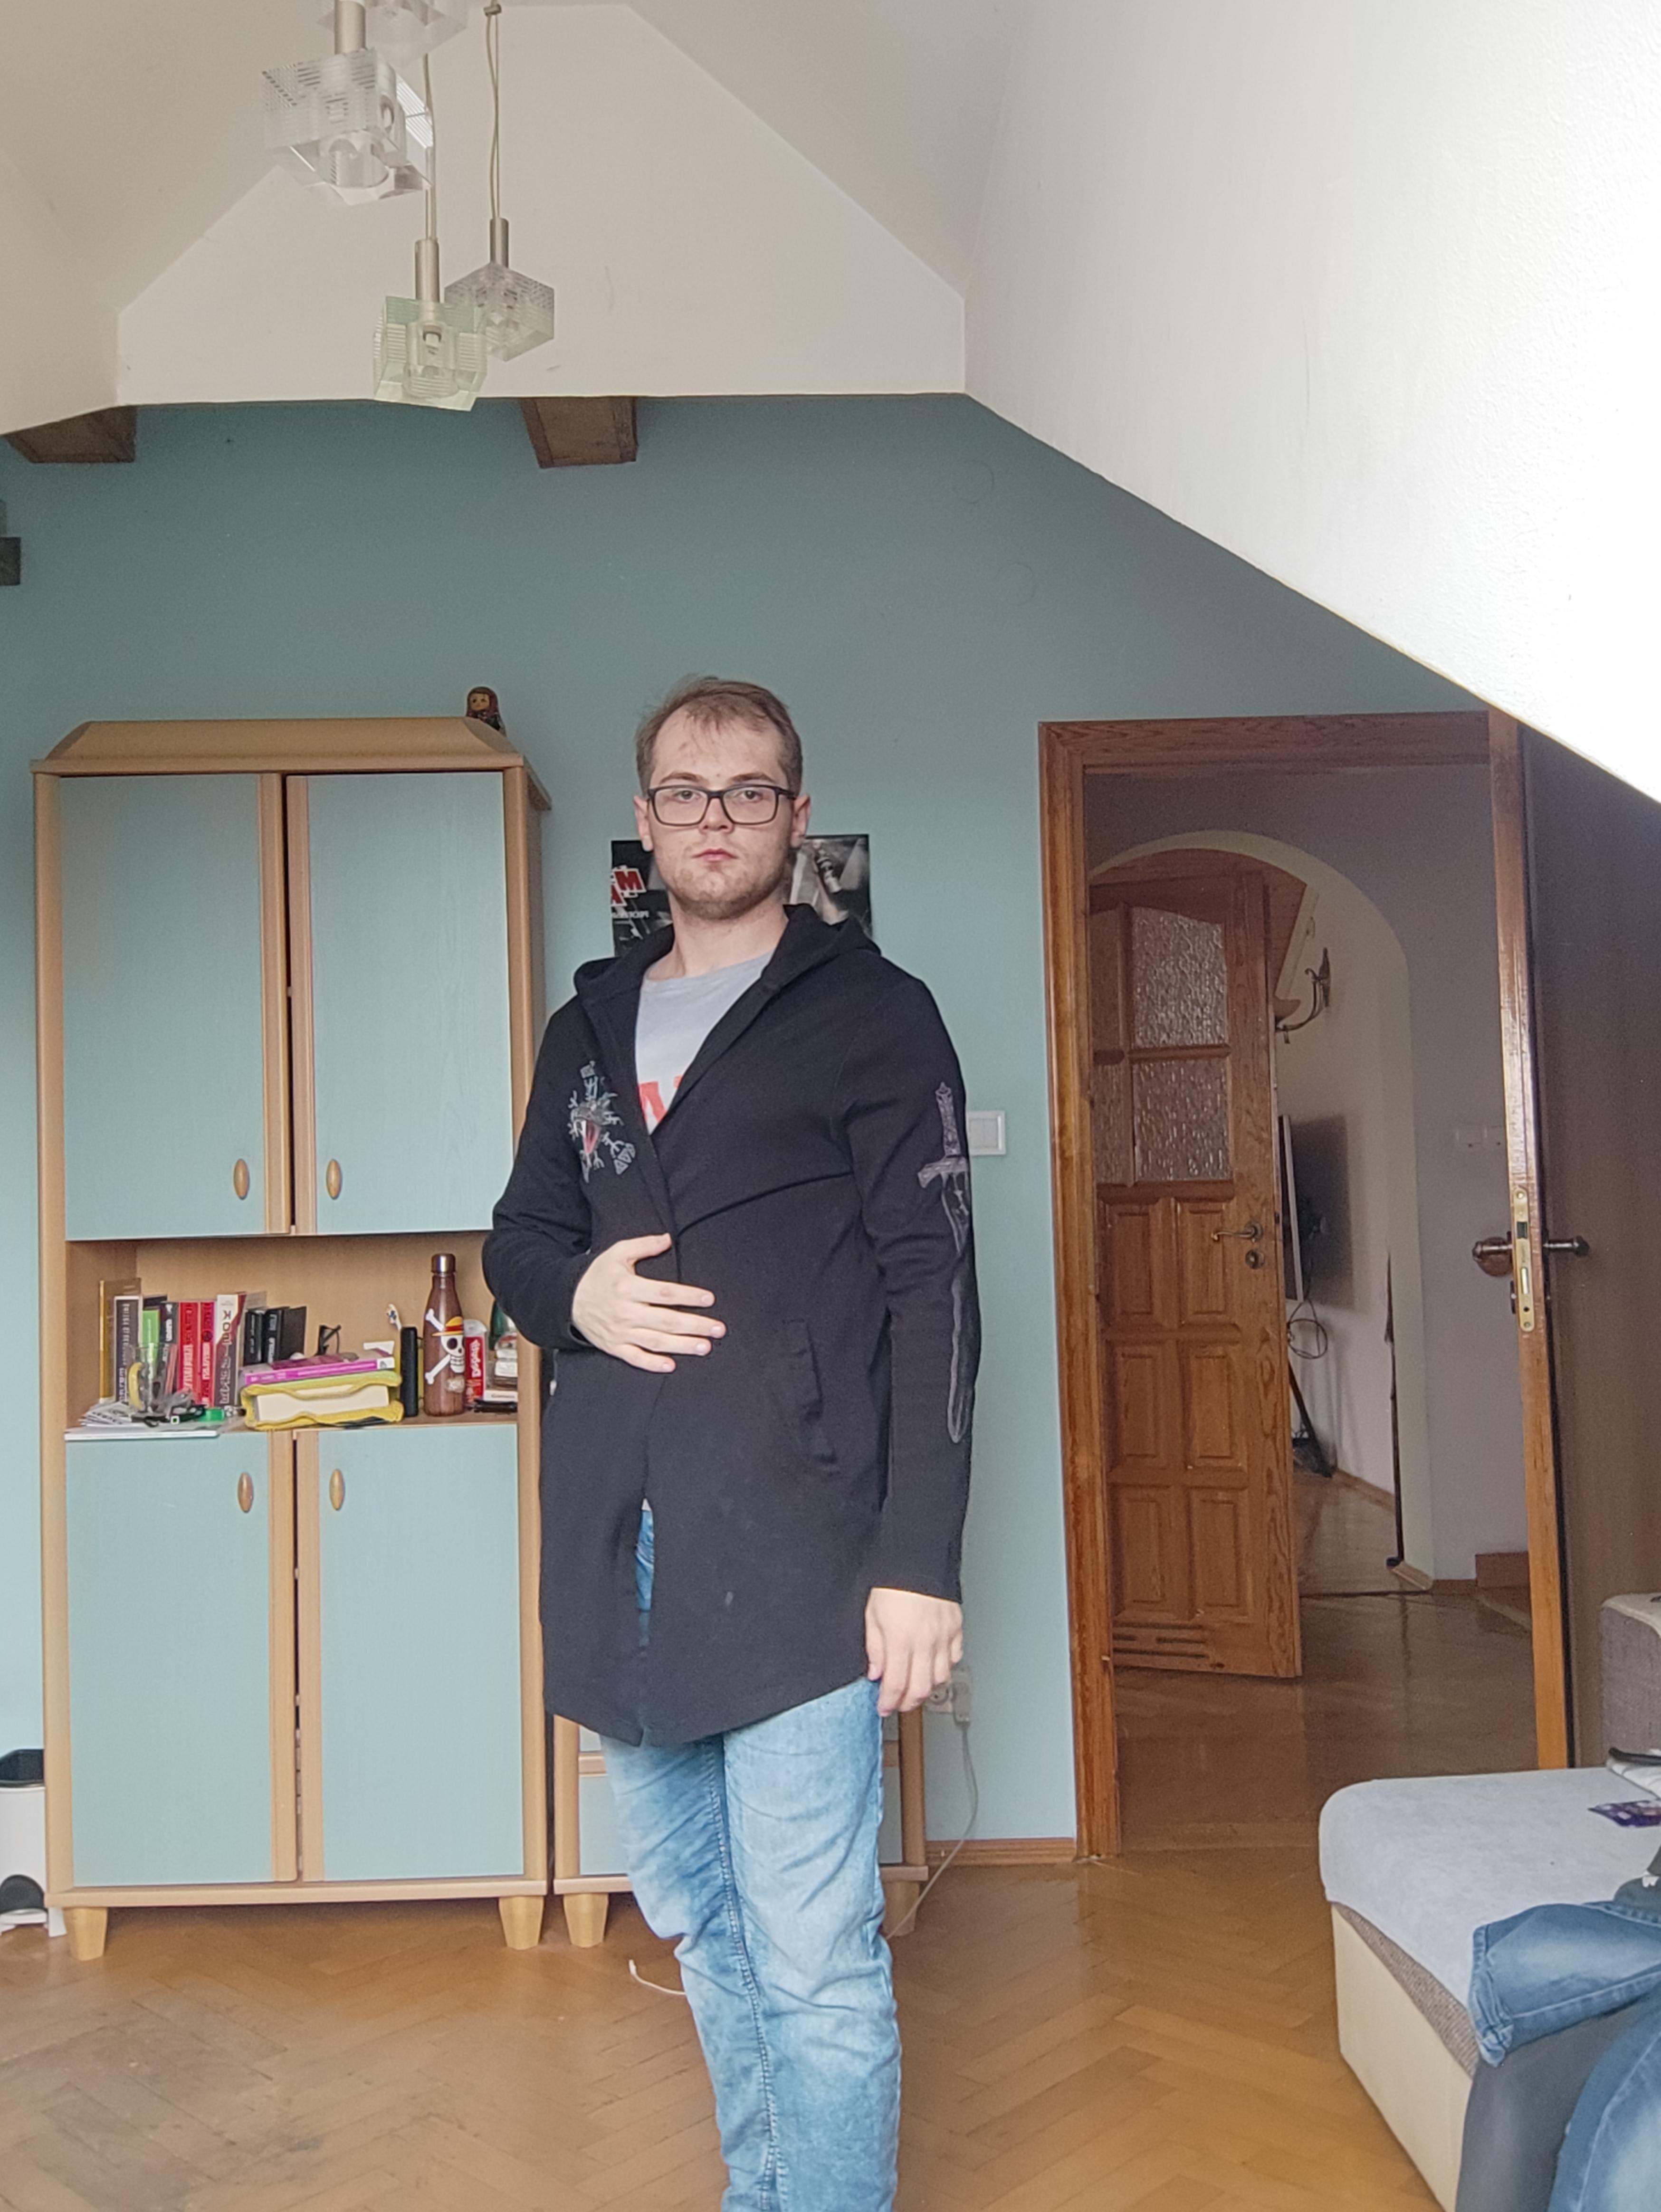pants: (595, 1505, 904, 2212)
sweater: (480, 918, 982, 1743)
